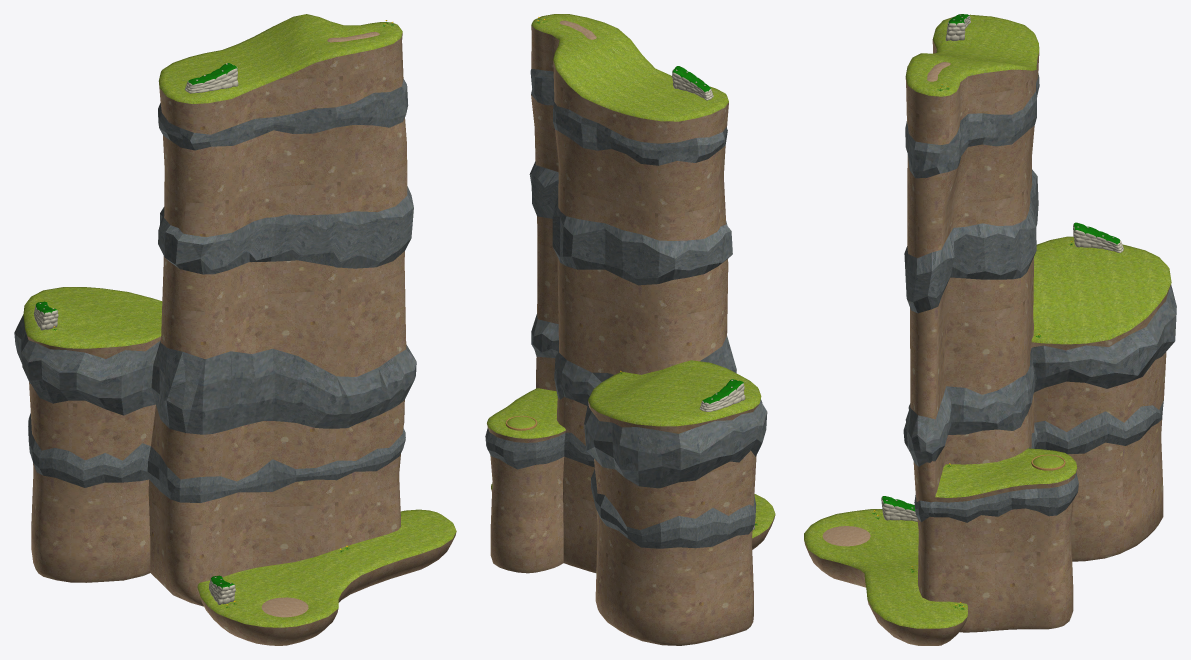
The model's file is CloudGardenStepF.fbx.
3 renders of one model, left to right at view 1: azimuth 30°, elevation 25°; view 2: azimuth 150°, elevation 25°; view 3: azimuth 270°, elevation 25°, orthographic. The views are drawn at different scales.
Visible parts, largest first — view 1: CloudGardenStepF; view 2: CloudGardenStepF; view 3: CloudGardenStepF.
Part boxes in pixels (<box>): CloudGardenStepF: <box>14,14,456,645</box>; CloudGardenStepF: <box>485,14,775,645</box>; CloudGardenStepF: <box>804,14,1176,645</box>.
Bounding box in the file's own units: 467519 × 691286 × 420670.
9 materials, 9 textured.
